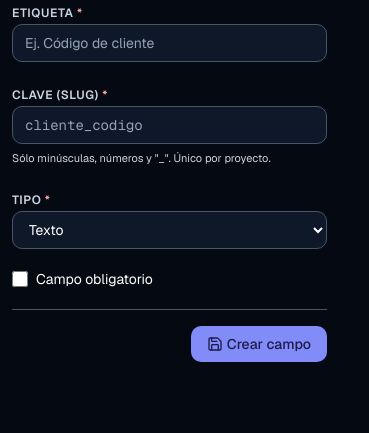
Scenario: FieldDefForm › muestra el detalle del error cuando el action falla
The width and height of the screenshot is (369, 433).
Type "Centro de costo" into the field labelled "Etiqueta *". click: (170, 43)
box: [12, 24, 327, 62]
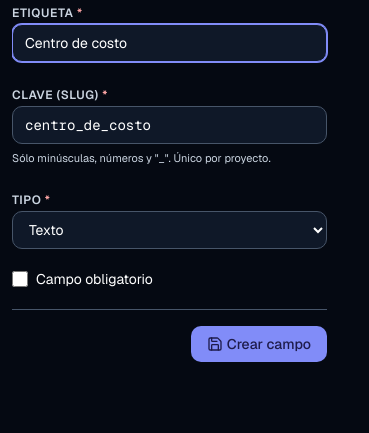
Click the button "Crear campo". click: click(259, 344)
box: [191, 326, 327, 362]
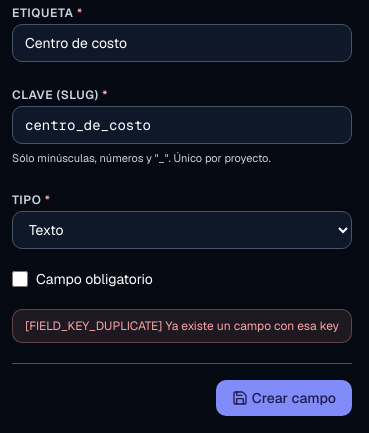
Now the message shows "FIELD_KEY_DUPLICATE", box [25, 318, 339, 334]
